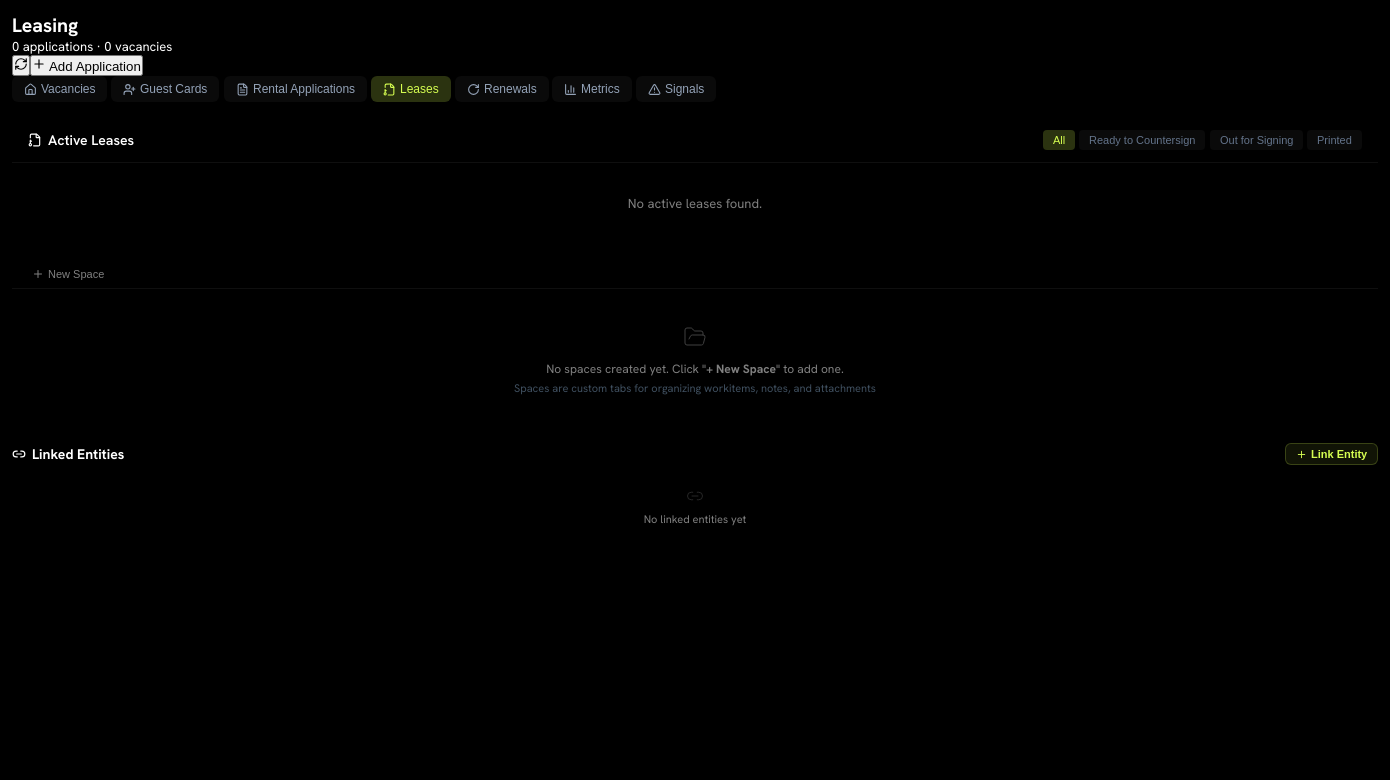
Test: LeasingModule · empty account → honest empty states, never the old hardcoded arrays › Renewals: honest empty state, no fake tenants, no dead M2M toggle
Click the button "Renewals".
click(501, 89)  # box [455, 76, 548, 102]
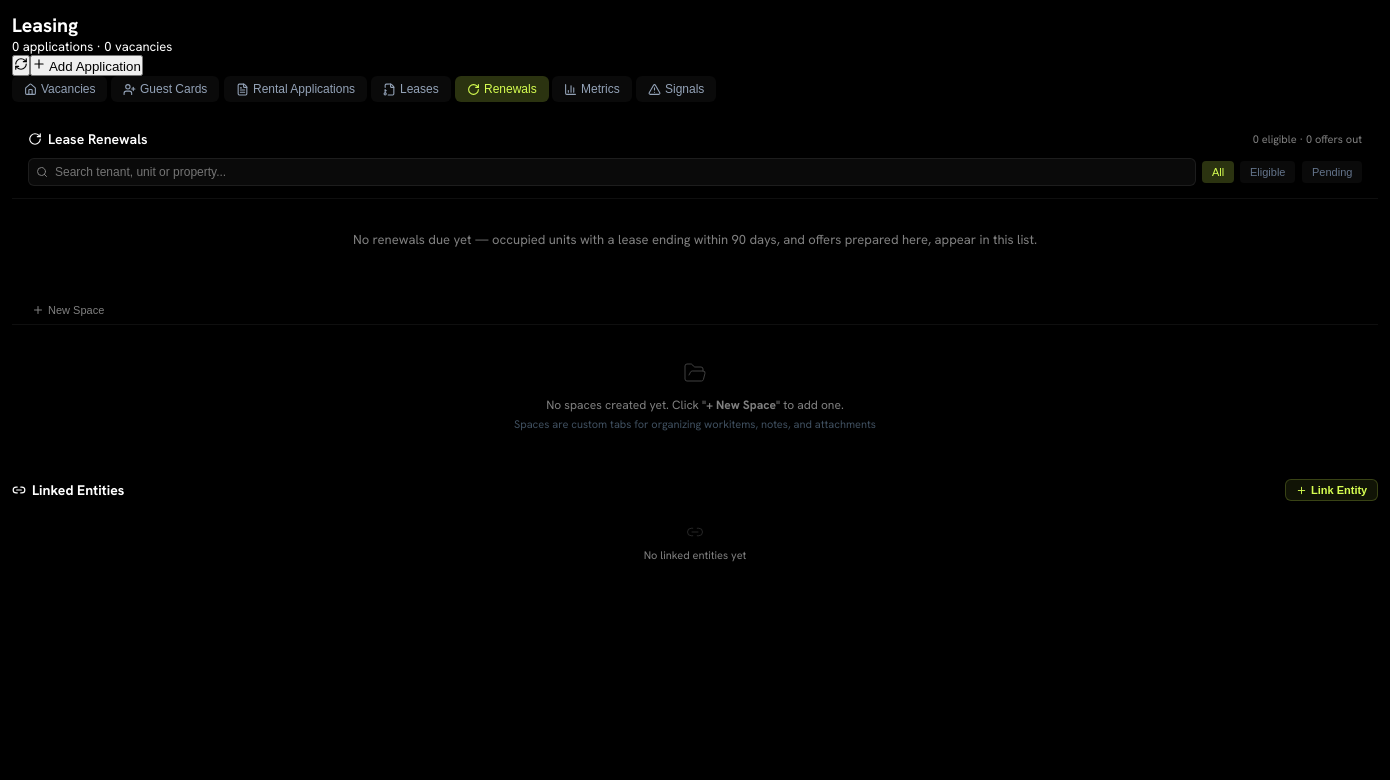
Check: the text "No renewals due yet" is shown, box [353, 231, 1037, 248]
